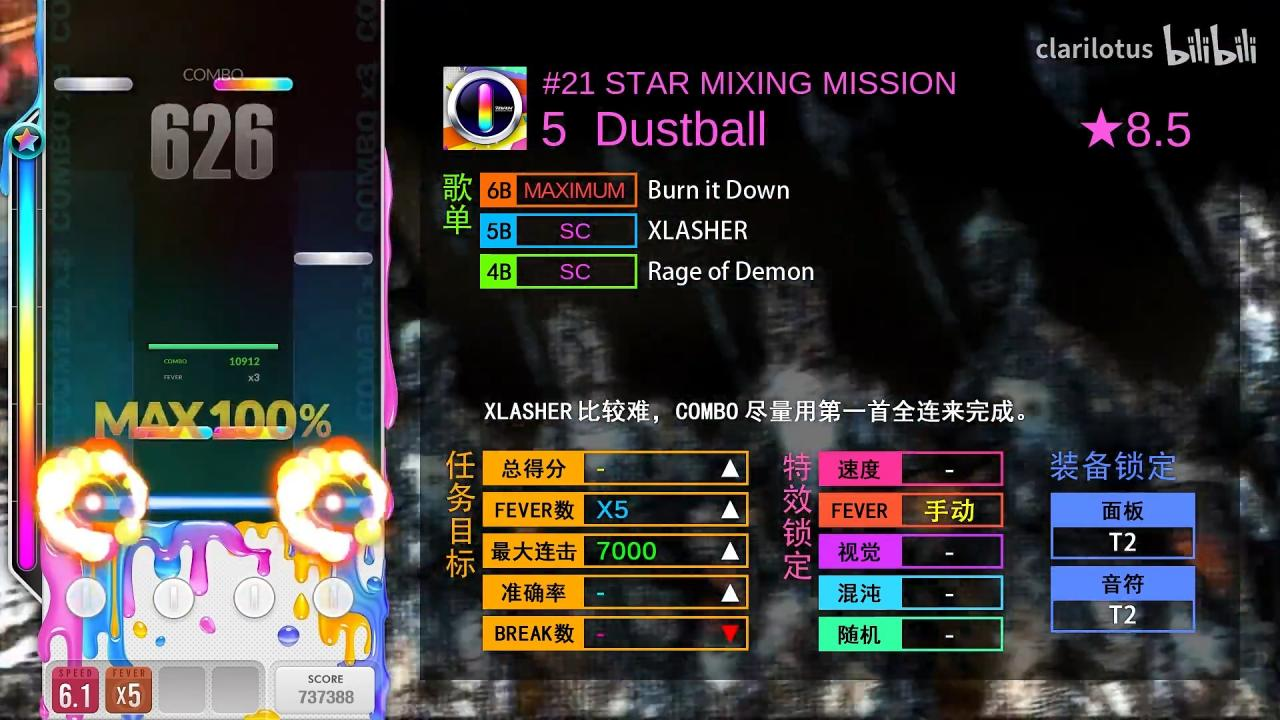note: (53, 77, 133, 91), (294, 252, 373, 266), (214, 426, 293, 440), (133, 426, 213, 439), (214, 78, 293, 91)
